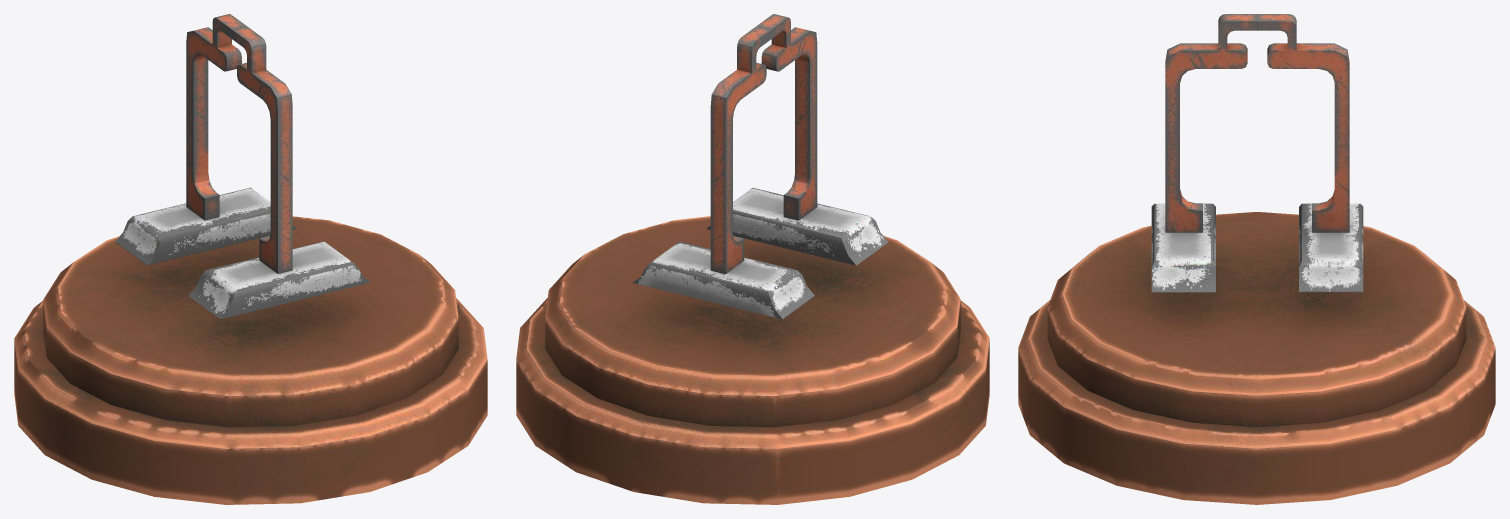
Rendered from TPBRONZE.fbx.
The picture shows the model from 3 angles, left to right: view 1: azimuth 30°, elevation 25°; view 2: azimuth 150°, elevation 25°; view 3: azimuth 270°, elevation 25°; orthographic projection.
Visible parts, largest first — view 1: polySurface69, polySurface66; view 2: polySurface69, polySurface66; view 3: polySurface69, polySurface66.
Boxes of the visible parts, x1,y1,x2,y2 form: polySurface69: [14, 216, 487, 504]; polySurface66: [115, 14, 370, 319]; polySurface69: [516, 216, 989, 504]; polySurface66: [632, 14, 888, 319]; polySurface69: [1018, 212, 1495, 504]; polySurface66: [1151, 14, 1363, 292].
Bounding box in the file's own units: 0.4773 × 0.4202 × 0.4773.
Materials: 1 (1 with a texture image).
